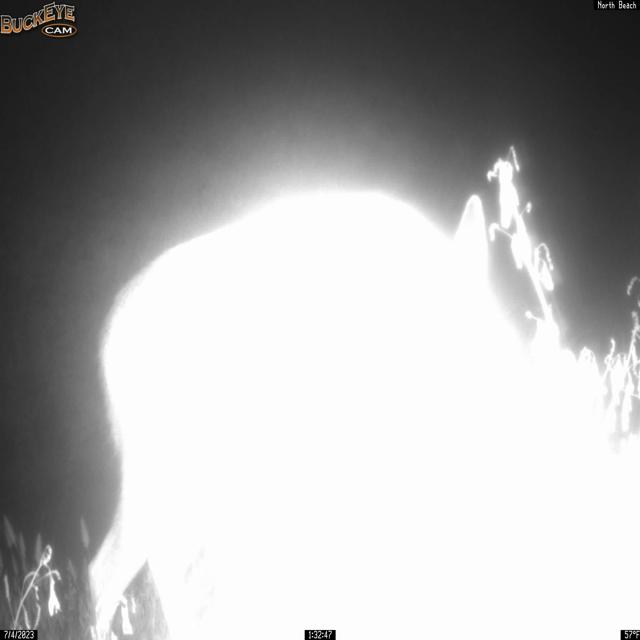deer: (77, 187, 639, 639)
